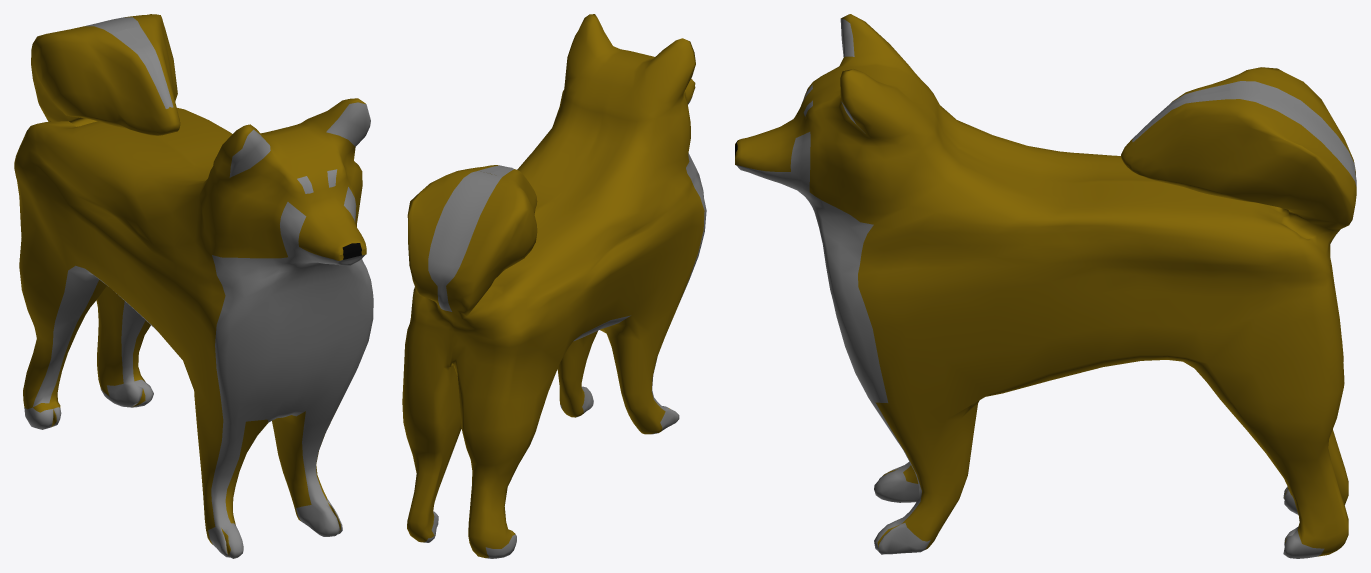
Rendered from Low_poly_dog_Hi_Extra.obj.
The picture shows the model from 3 angles, left to right: view 1: azimuth 30°, elevation 25°; view 2: azimuth 150°, elevation 25°; view 3: azimuth 270°, elevation 25°; orthographic projection. The views are drawn at different scales.
Visible parts, largest first — view 1: pCube10_pCube10; view 2: pCube10_pCube10; view 3: pCube10_pCube10.
Boxes of the visible parts, left/top/right/bottom form: pCube10_pCube10: left=14, top=14, right=373, bottom=558; pCube10_pCube10: left=402, top=14, right=706, bottom=558; pCube10_pCube10: left=735, top=14, right=1356, bottom=558.
Bounding box in the file's own units: 23.6 × 62.21 × 70.59.
